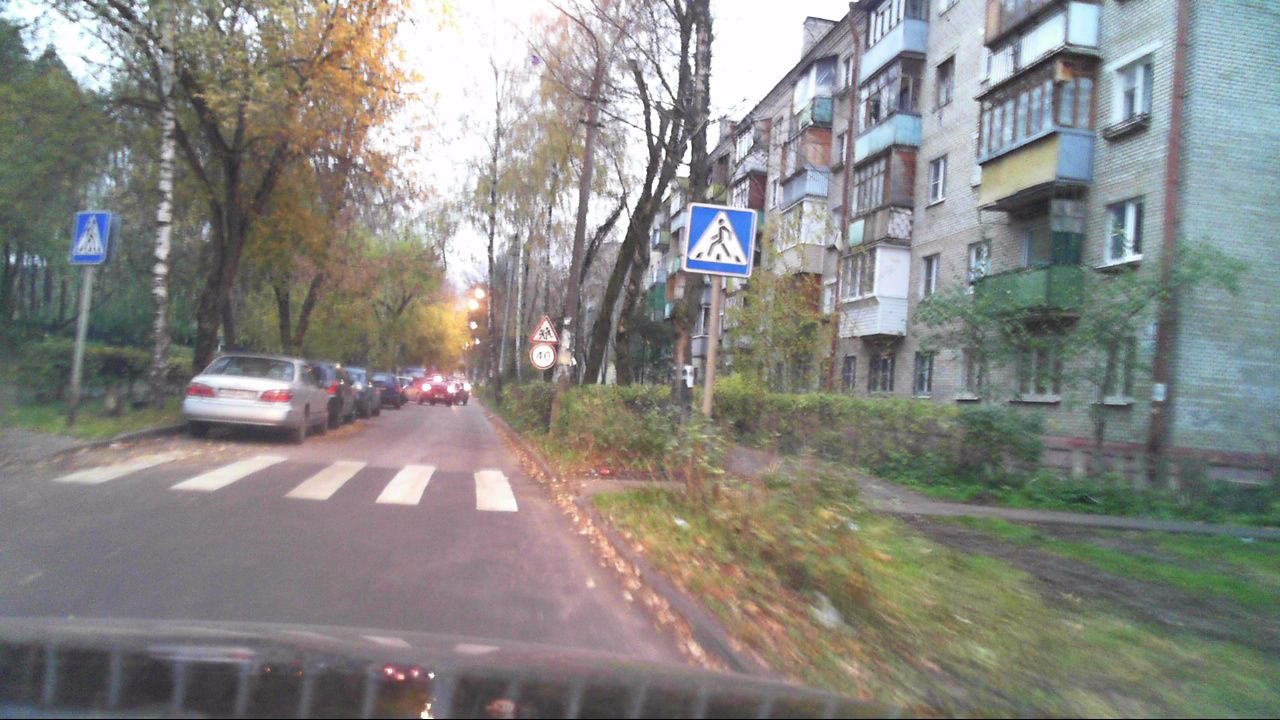speed_warning_40: (530, 343, 556, 368)
